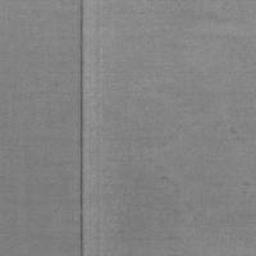Welding line: (77, 0, 84, 256)
